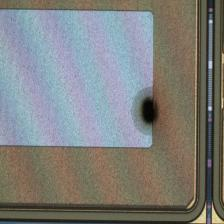PARTICLE: (129, 88, 177, 136)
